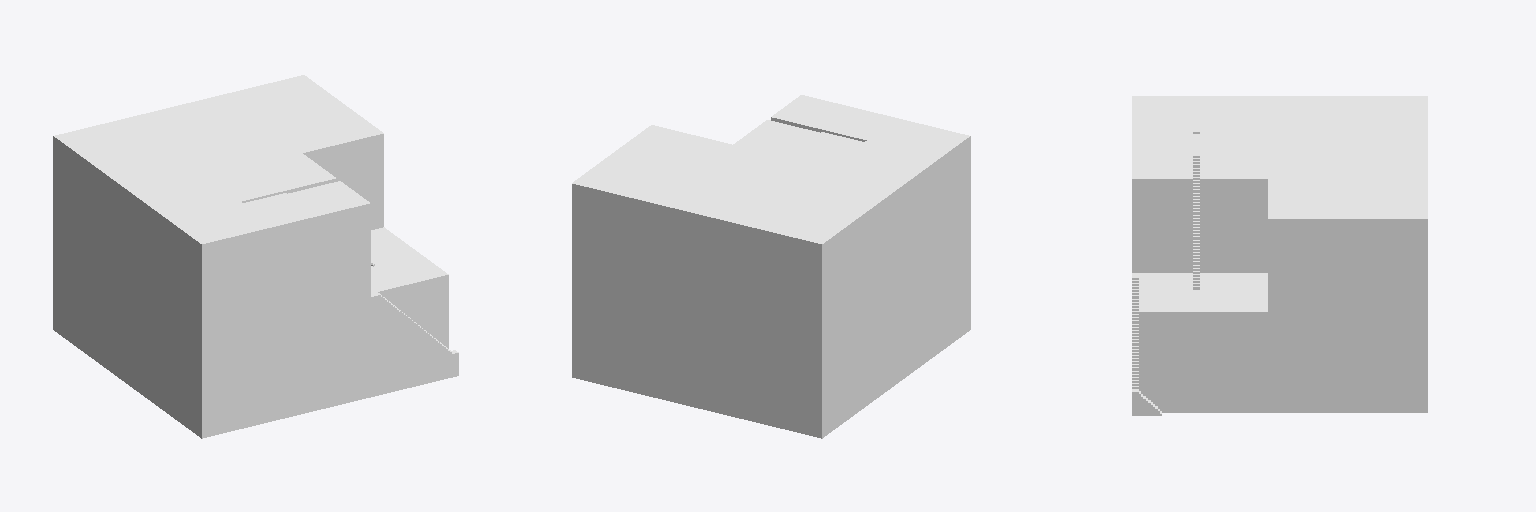
File: world_cube.obj
The picture shows the model from 3 angles: view 1: azimuth 30°, elevation 25°; view 2: azimuth 150°, elevation 25°; view 3: azimuth 270°, elevation 25°; orthographic projection.
Bounding box in the file's own units: 126 × 91 × 126.